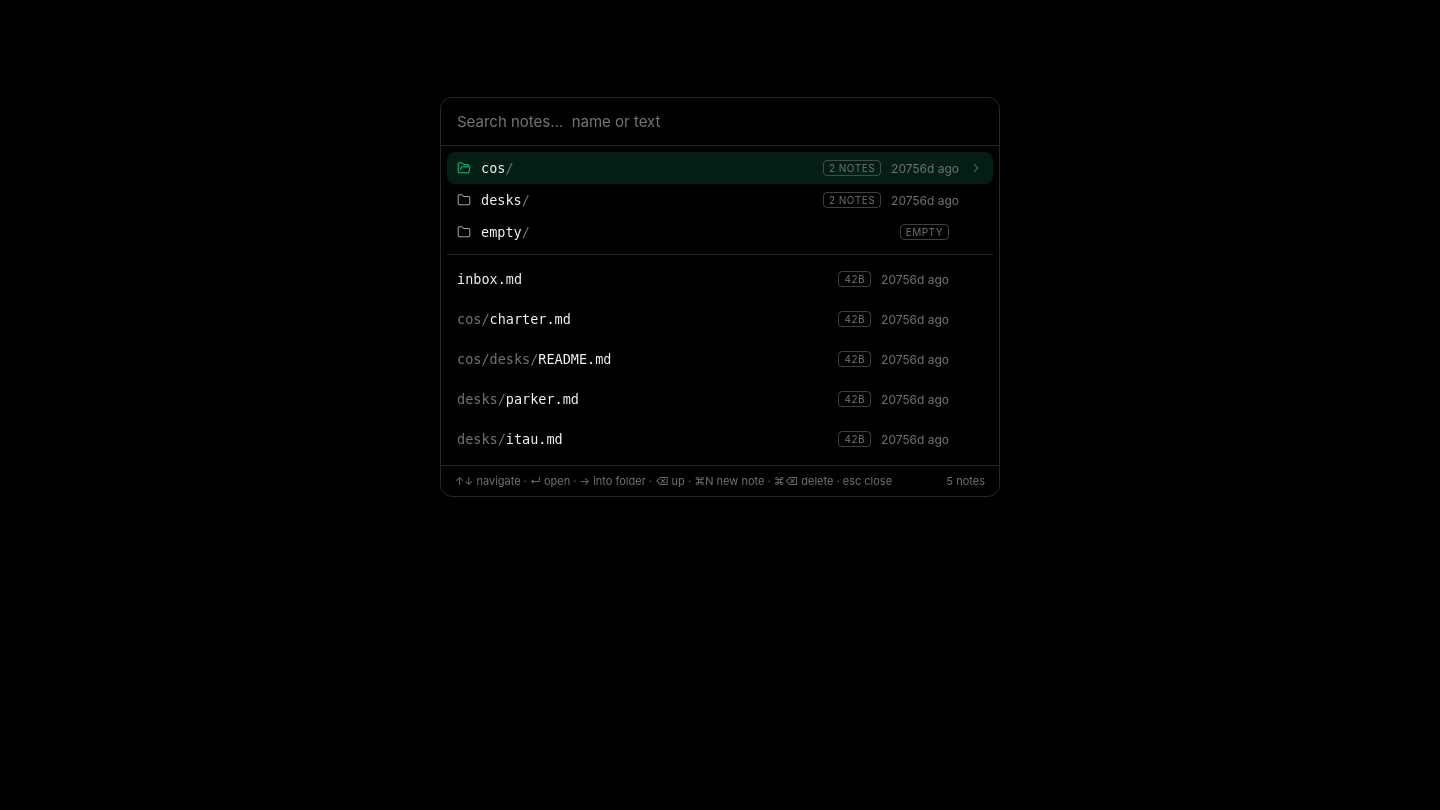
NotePicker with folders › keeps a search inside the folder it is in
Type "cos/" into the field with placeholder "Search notes… name or text" at (726, 122), box [453,98,999,145]
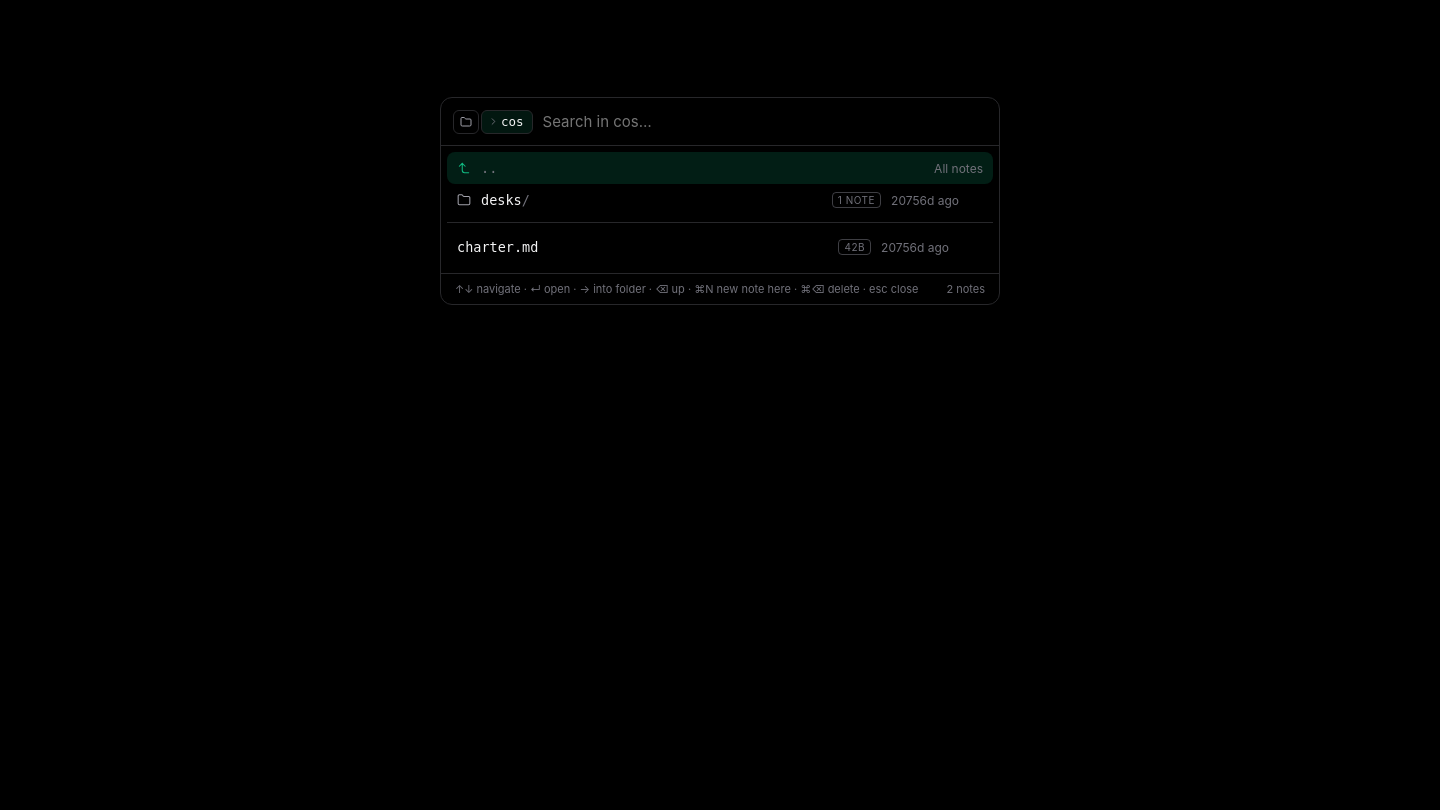
Type "README" into the field with placeholder "Search in cos…" at (769, 122), box [539,98,999,145]
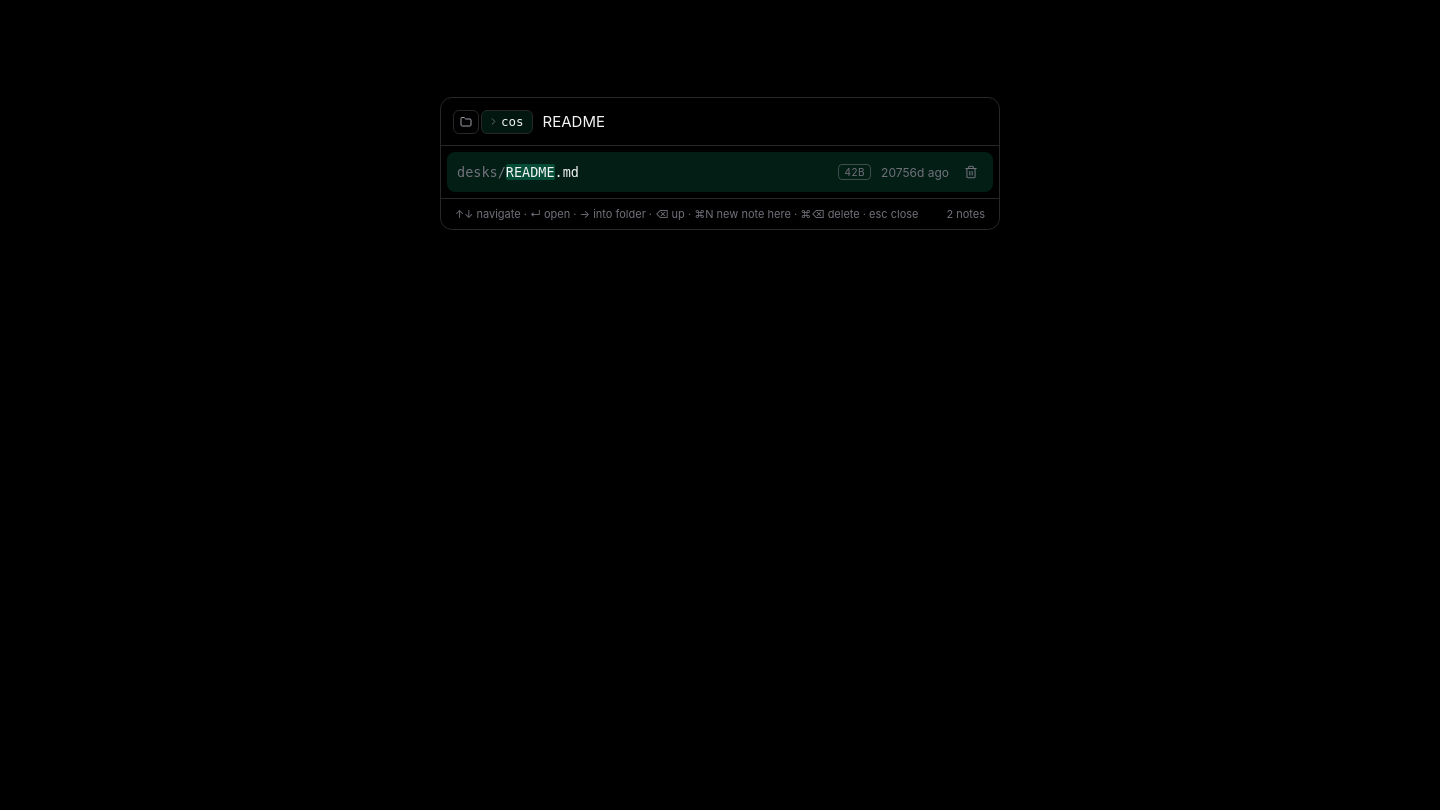
Expected: the element showing "desks/README.md 42B 20756d ago" is shown, [447,152,993,192]
